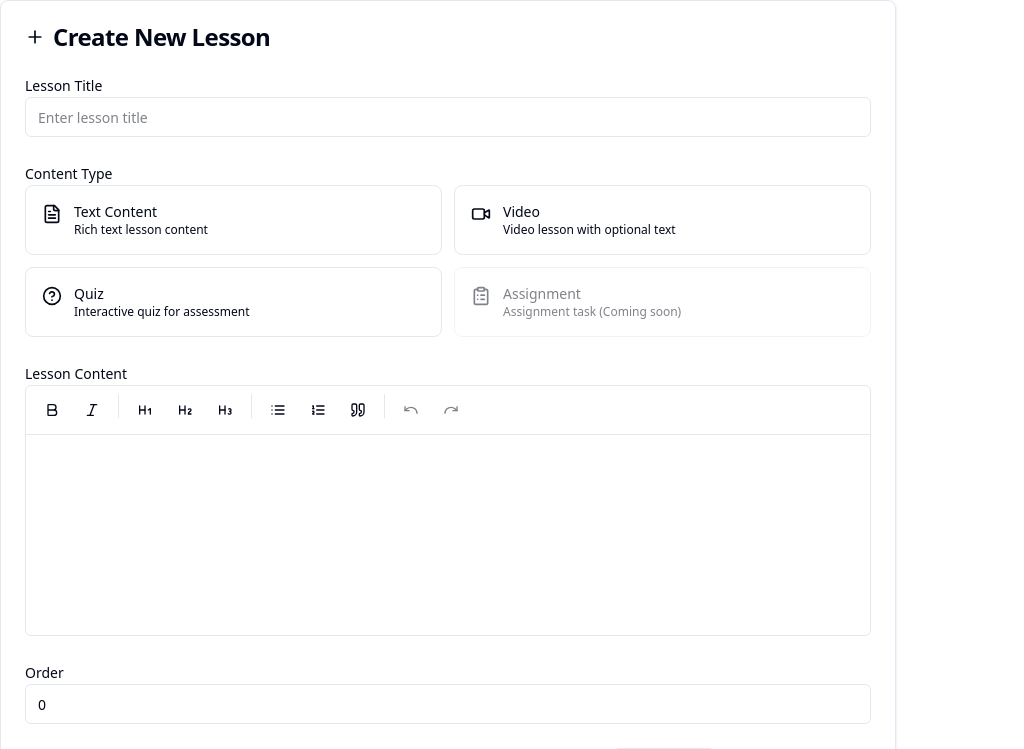
Test: LessonForm › Create Mode › should show video URL field for VIDEO content type
Click the button "Video Video lesson with optional text".
click(662, 220)  # box [454, 185, 871, 255]
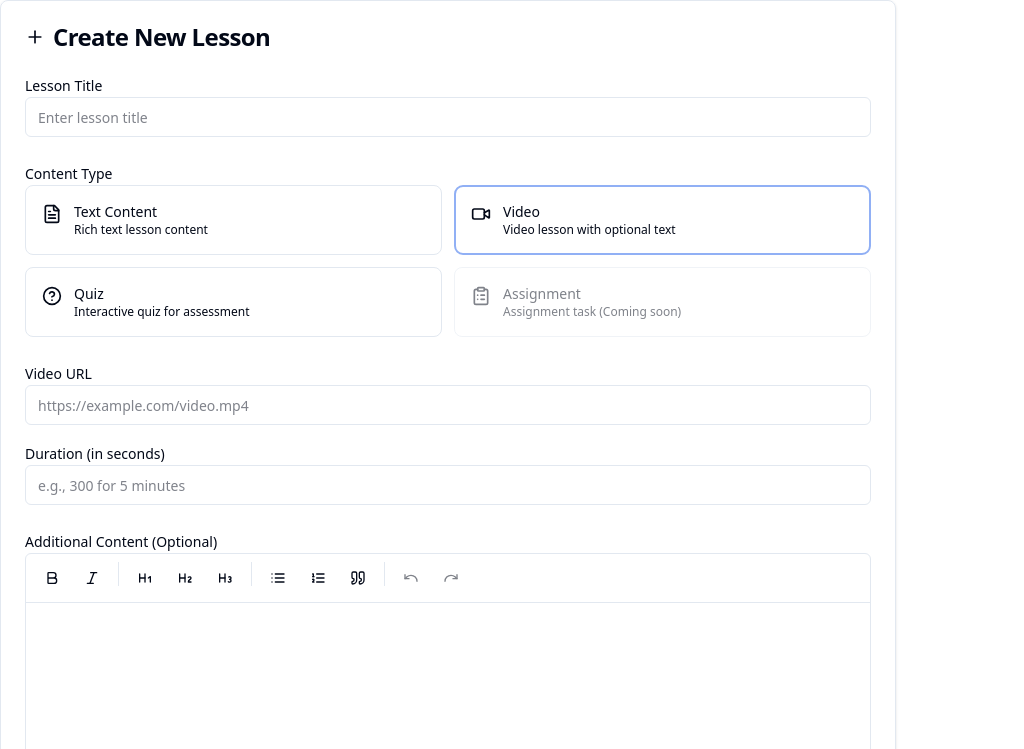
Expected: the field labelled "Video URL" is shown, [25, 385, 871, 425]
Expected: the number field labelled "Duration (in seconds)" is shown, [25, 465, 871, 505]
